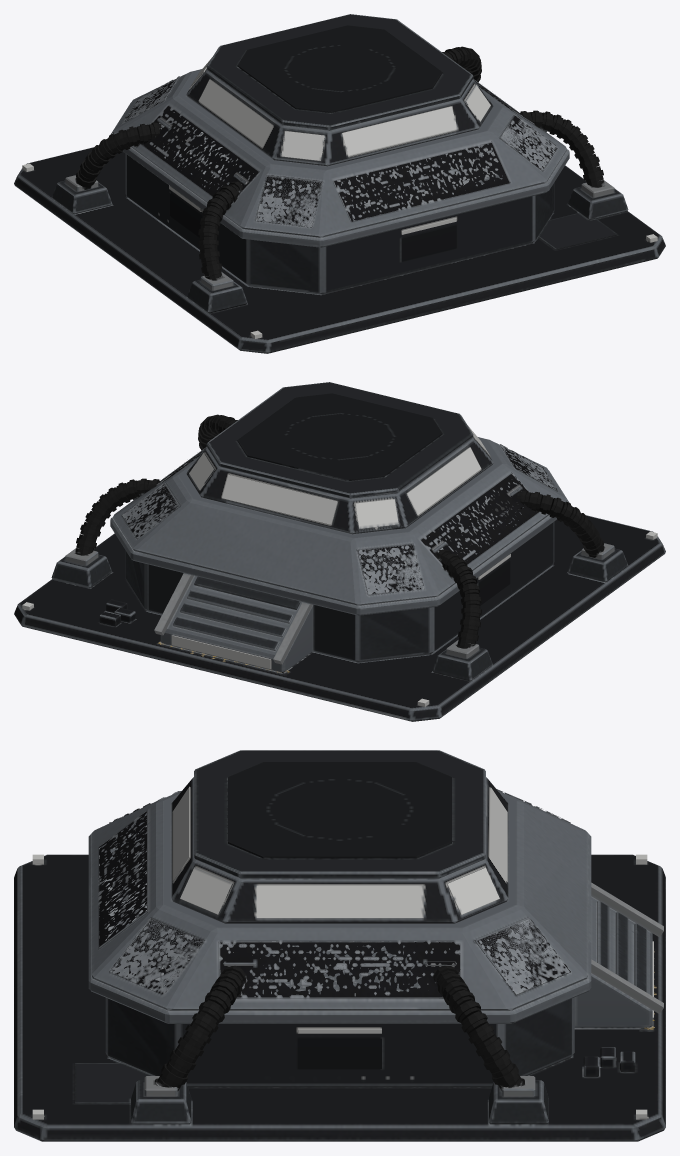
Rendered from chs_advconverter.fbx.
The picture shows the model from 3 angles, top to bottom: view 1: azimuth 30°, elevation 25°; view 2: azimuth 150°, elevation 25°; view 3: azimuth 270°, elevation 25°; orthographic projection. The views are drawn at different scales.
Visible parts, largest first — view 1: base_bar, crucible_bar, crucible_glow_power_bar; view 2: base_bar, crucible_bar, crucible_glow_power_bar, base_glow_power_bar; view 3: base_bar, crucible_bar, crucible_glow_power_bar, base_glow_power_bar.
Part boxes in pixels (x1,y1,x2,y2): base_bar: (14,46,665,353); crucible_bar: (186,14,493,166); crucible_glow_power_bar: (189,57,490,160); base_bar: (14,414,665,721); crucible_bar: (186,382,493,534); crucible_glow_power_bar: (189,425,490,528); base_glow_power_bar: (171,554,510,668); base_bar: (14,789,665,1141); crucible_bar: (171,750,508,923); crucible_glow_power_bar: (172,787,507,917); base_glow_power_bar: (298,941,653,1033).
Bounding box in the file's own units: 2334 × 972 × 2334.
2 materials, 2 textured.
